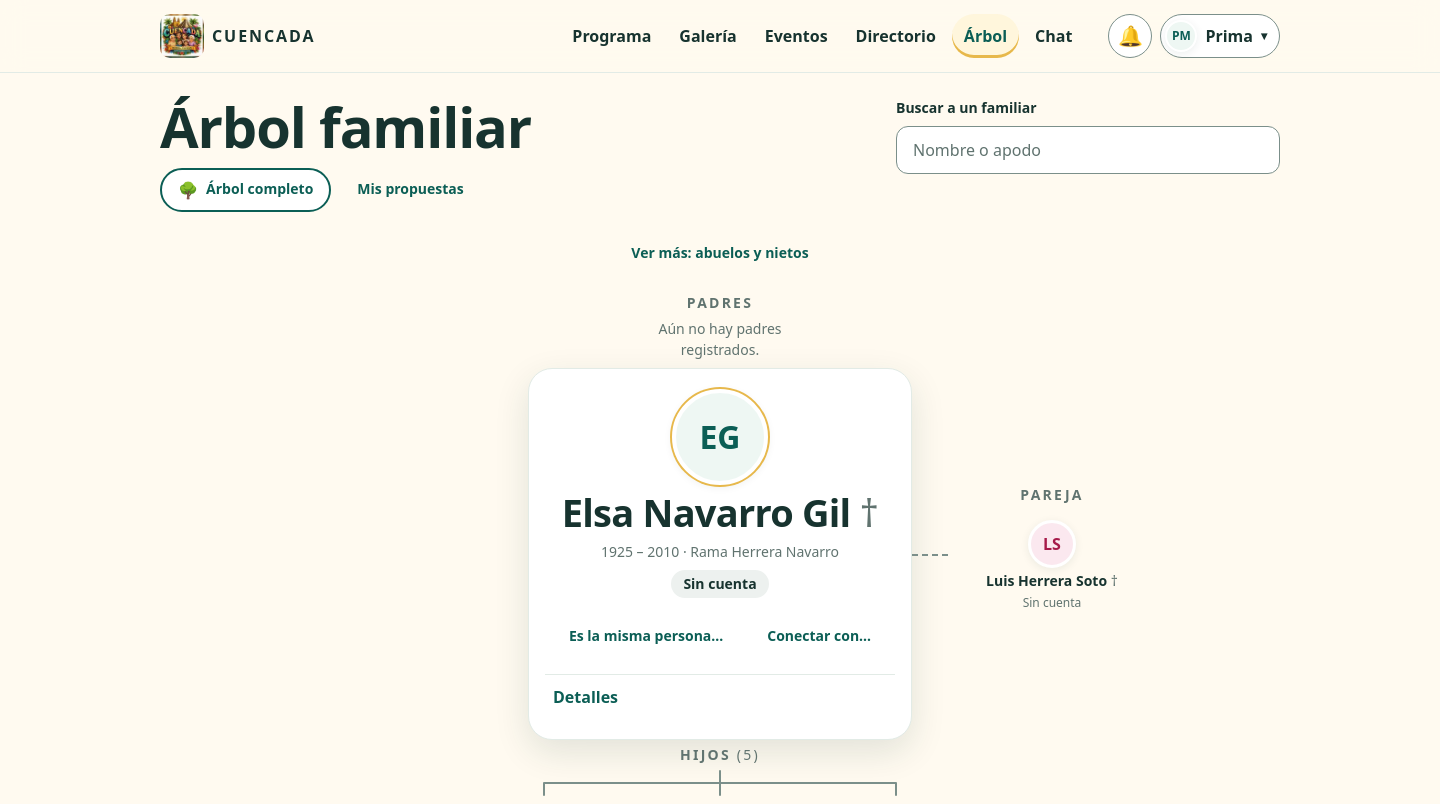
Scenario: proposals from the person page › sends «Conectar con…» with the chosen relation, ordered for parent_of
Click the button "Conectar con…" at (819, 636), box [749, 614, 889, 658]
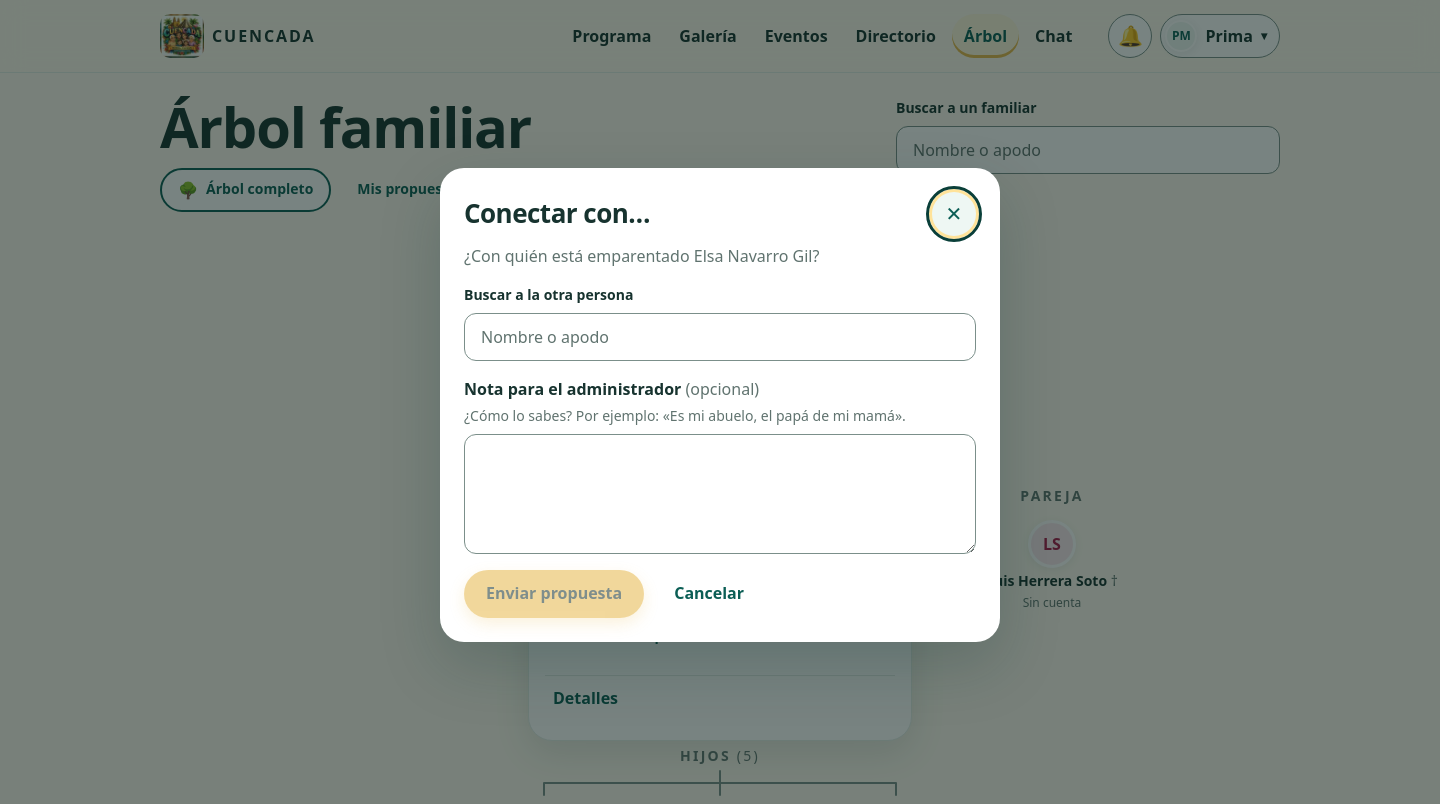
Expected: the button "Enviar propuesta" is disabled, [464, 570, 644, 618]
Type "Gregorio" into the search field labelled "Buscar a la otra persona" at (720, 337), box [464, 313, 976, 361]
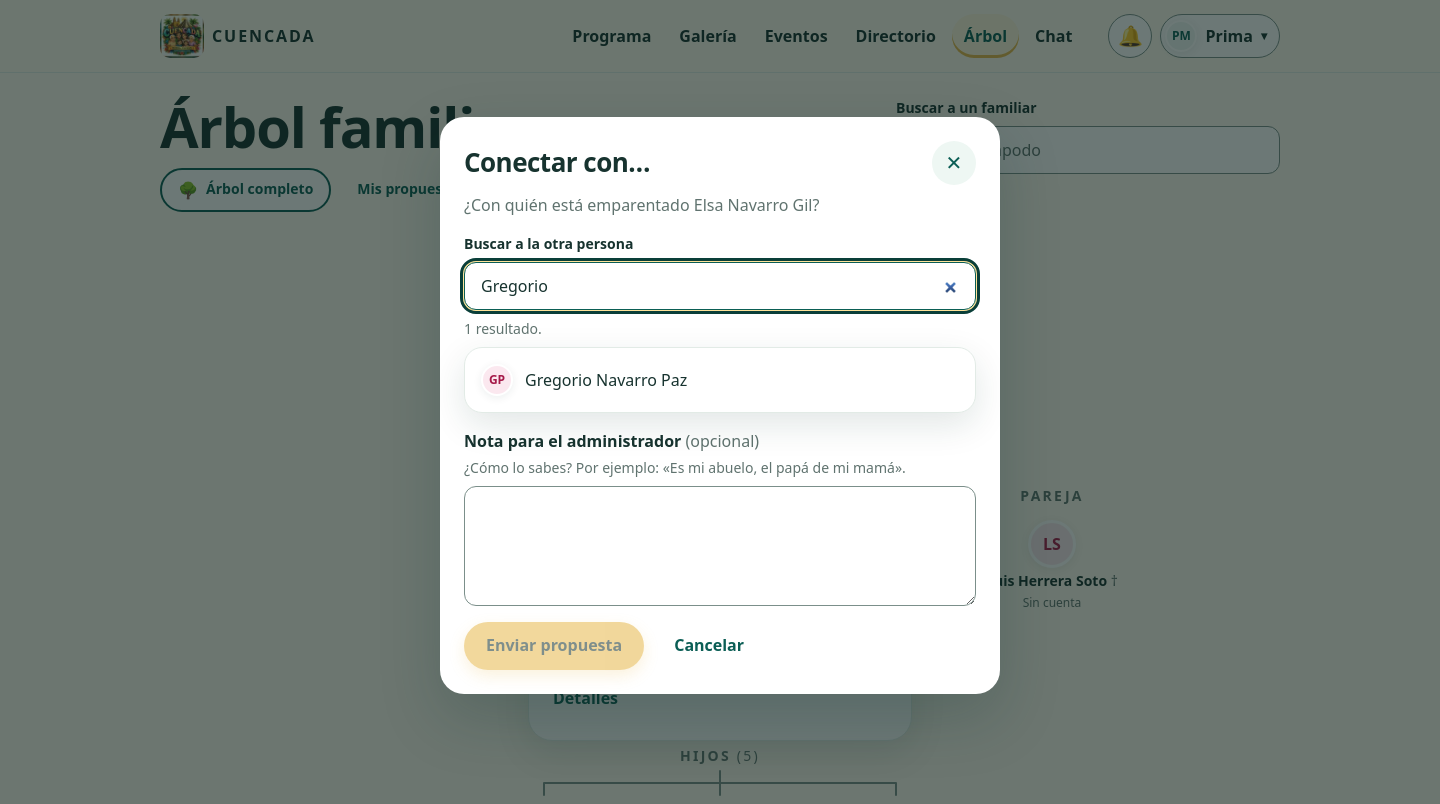
Click the button with aria-label "Elegir a Gregorio Navarro Paz" at (497, 380), box [473, 356, 967, 404]
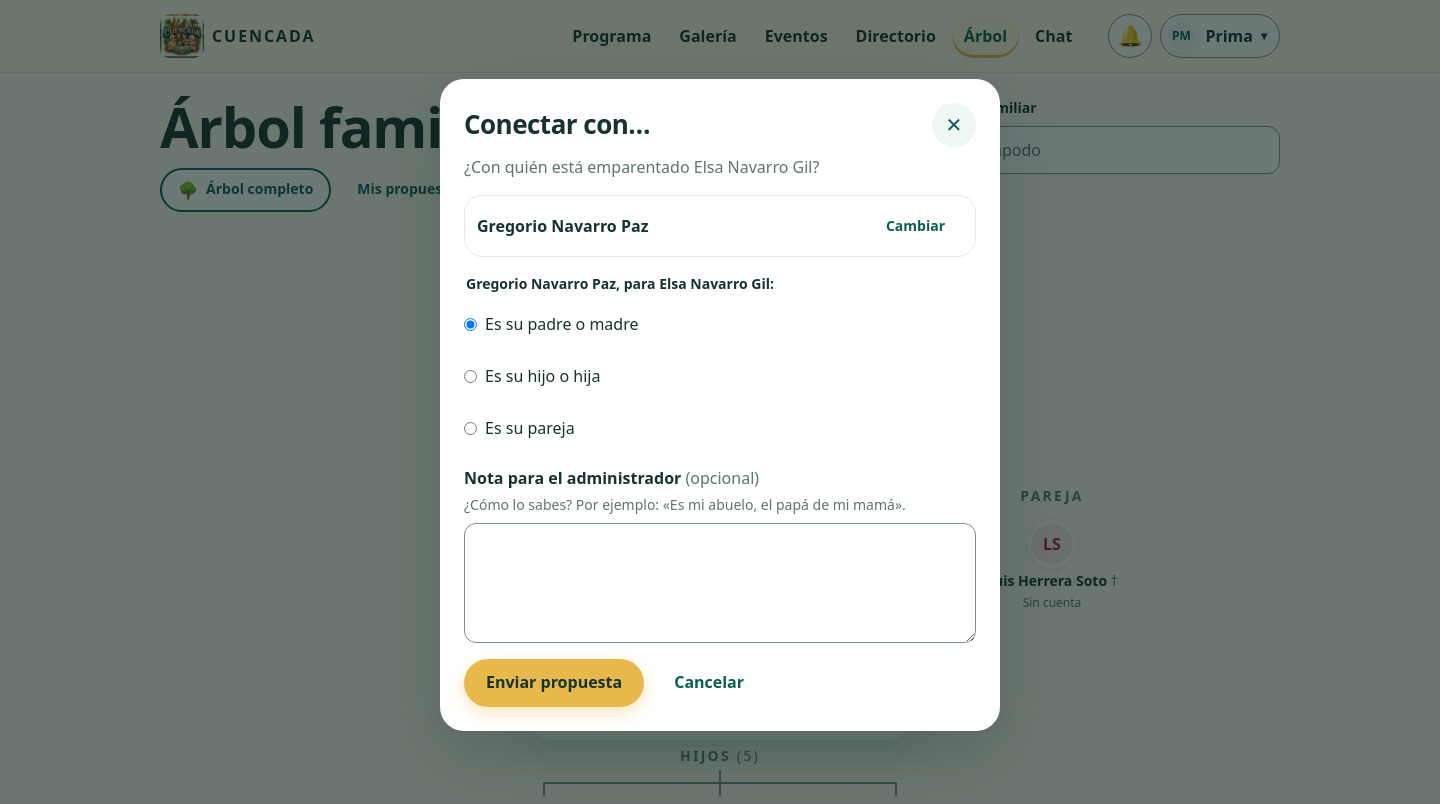
Click the radio button labelled "Es su padre o madre" at (470, 324), box [464, 318, 477, 330]
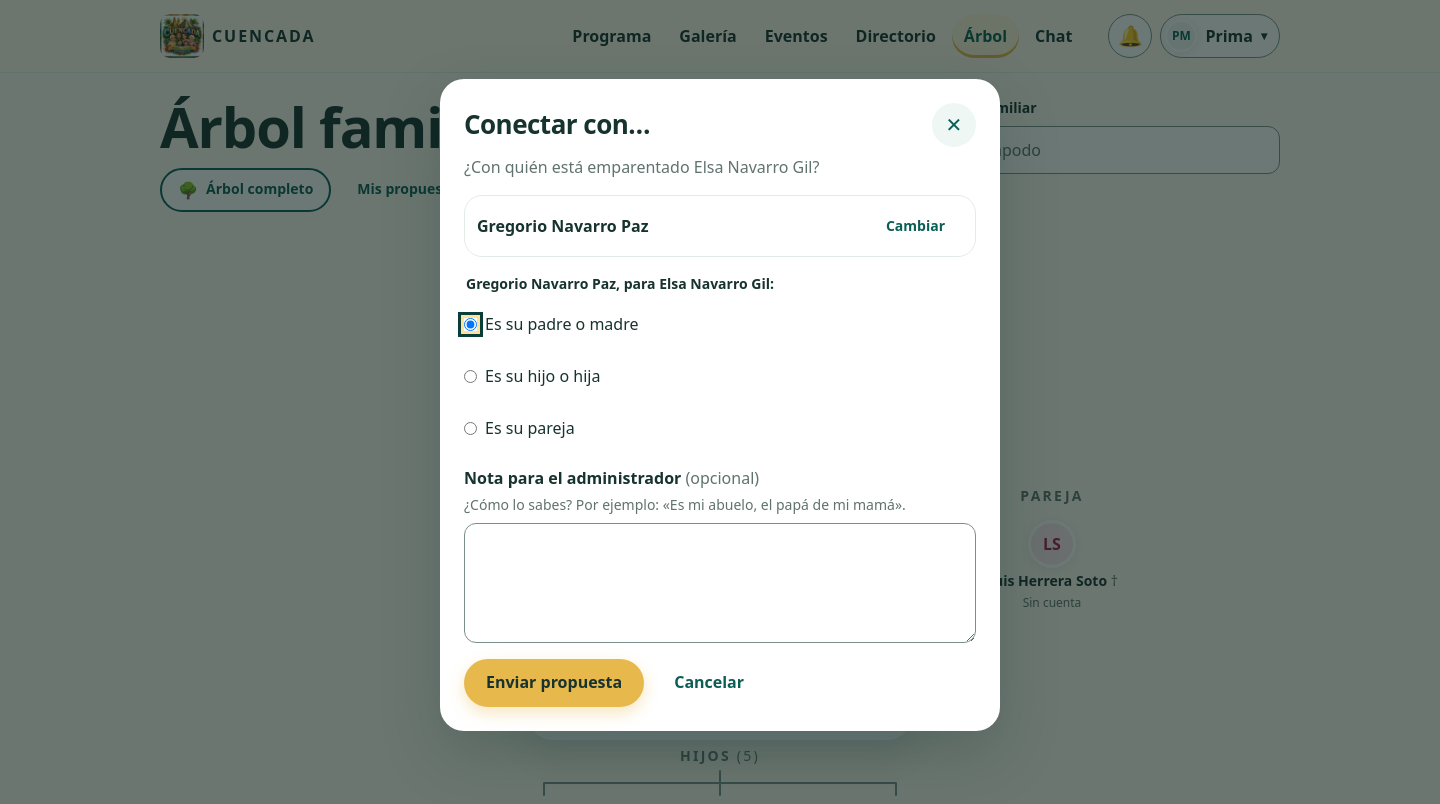
Click the button "Enviar propuesta" at (554, 683), box [464, 659, 644, 707]
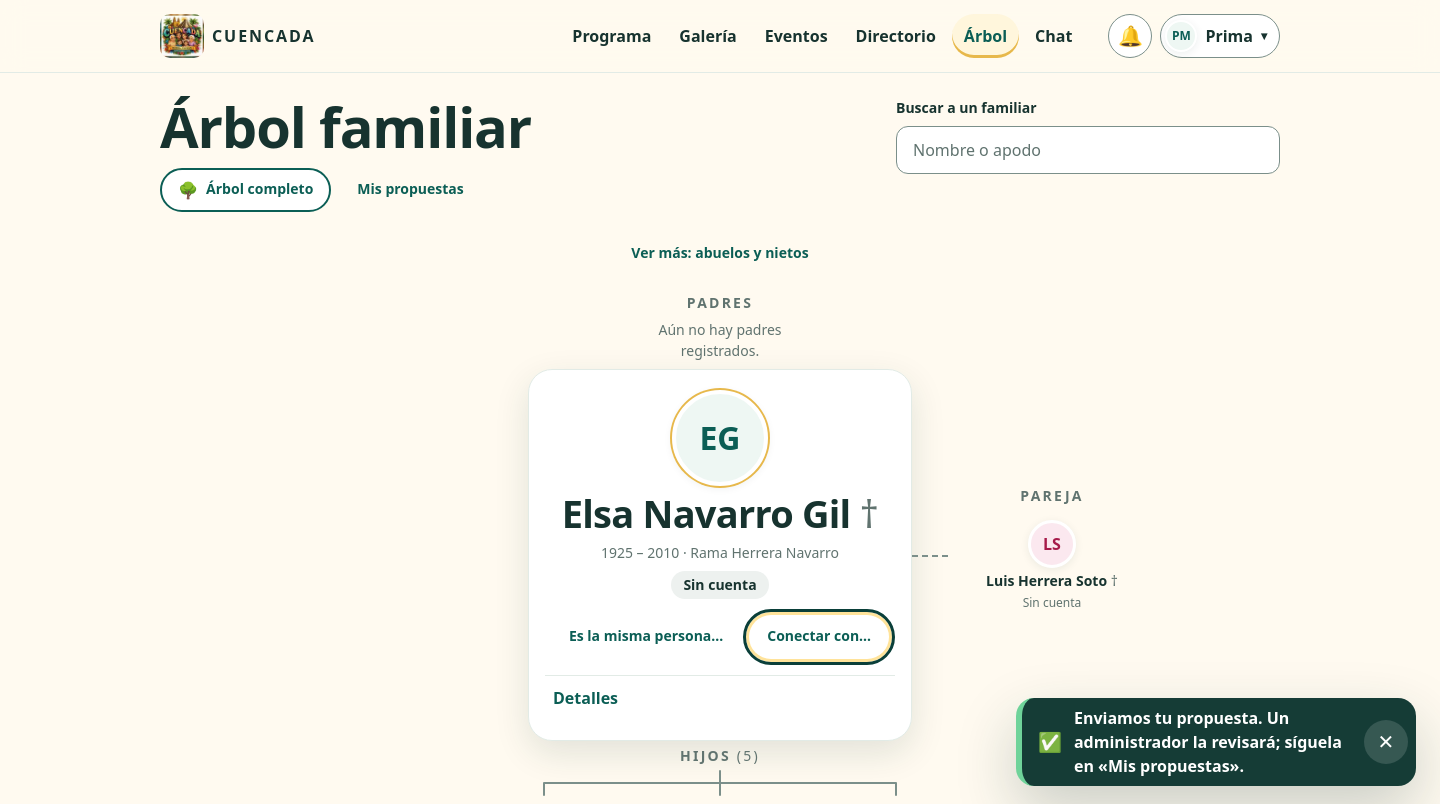
Expected: the text "Enviamos tu propuesta" is shown, [1074, 707, 1342, 777]
